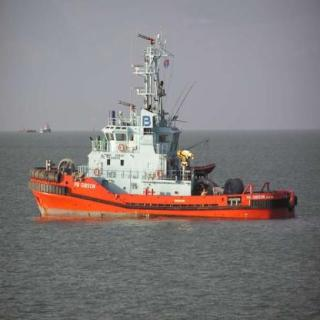Tug Boat: (22, 26, 313, 218)
